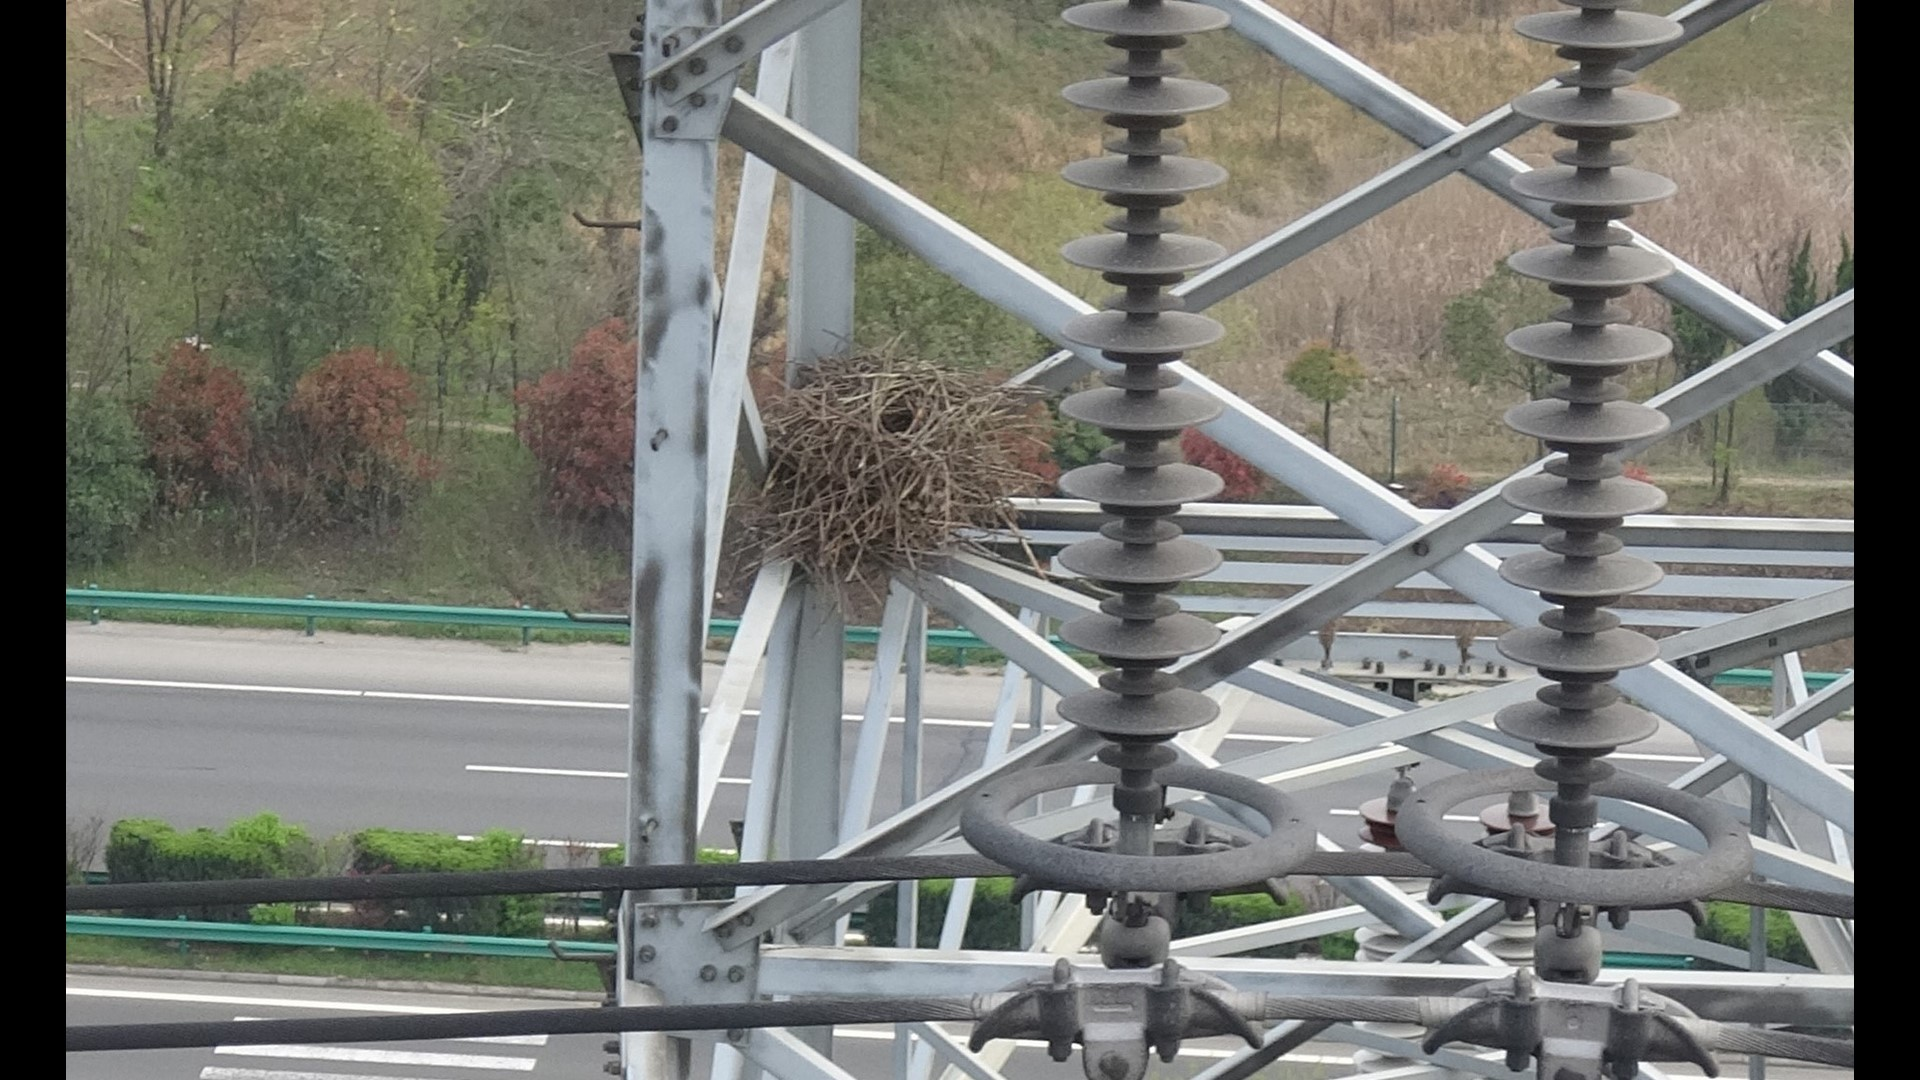niaowo: (738, 320, 1036, 605)
